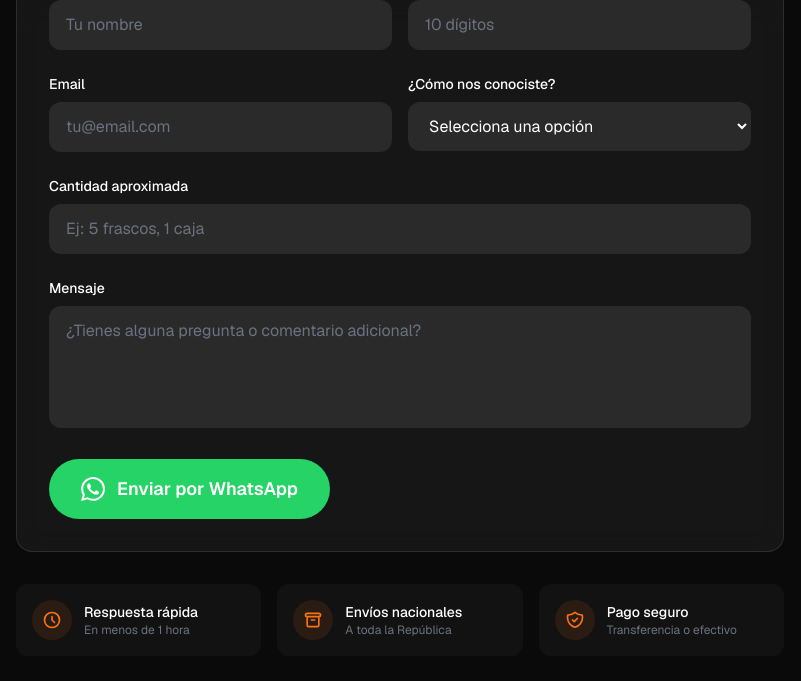
Test: Contact Form Integration › Validation Flow › prevents submission with multiple validation errors
(page scrolled)
# Submit empty form
Click the button "Enviar por WhatsApp".
click(190, 489)  # box [49,459,330,519]
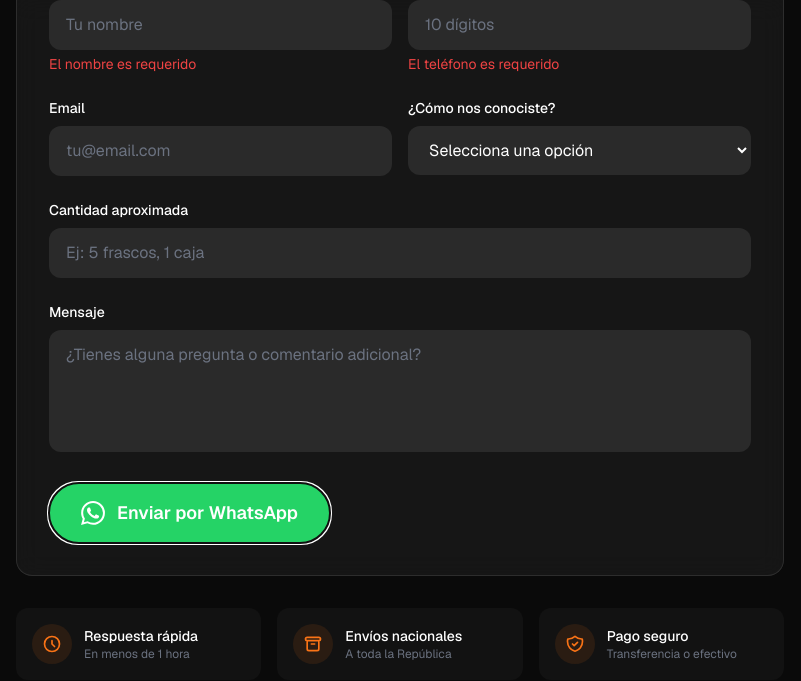
Result: the text "El nombre es requerido" is shown at [49,55,196,73]
Result: the text "El teléfono es requerido" is shown at [408,55,559,73]
